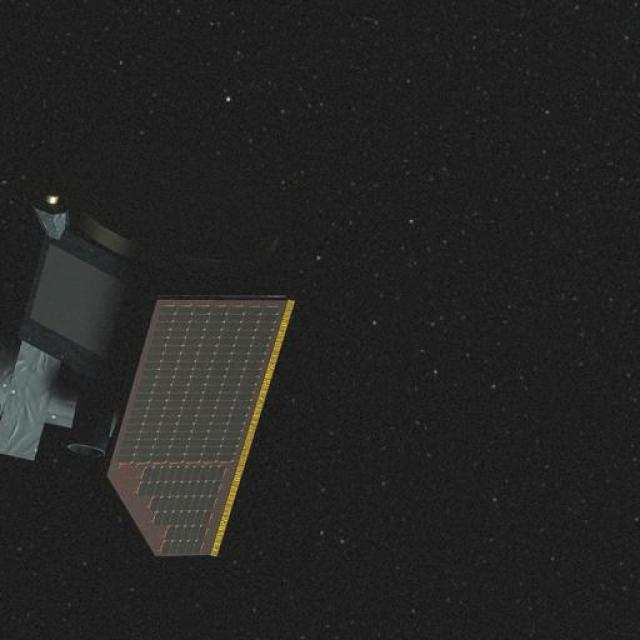cheops: (0, 148, 300, 574)
